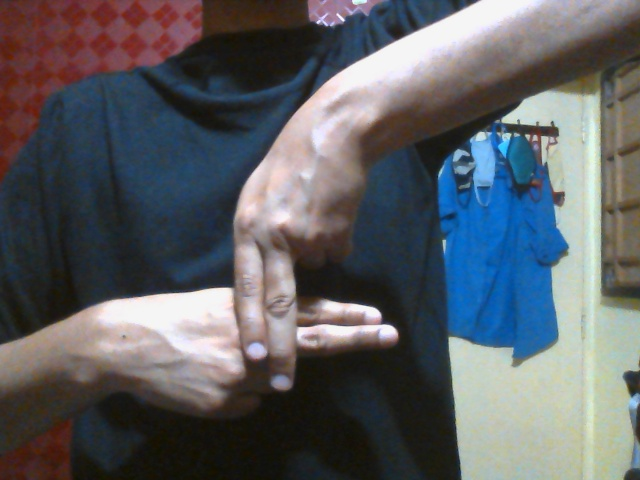F: (105, 125, 401, 421)
